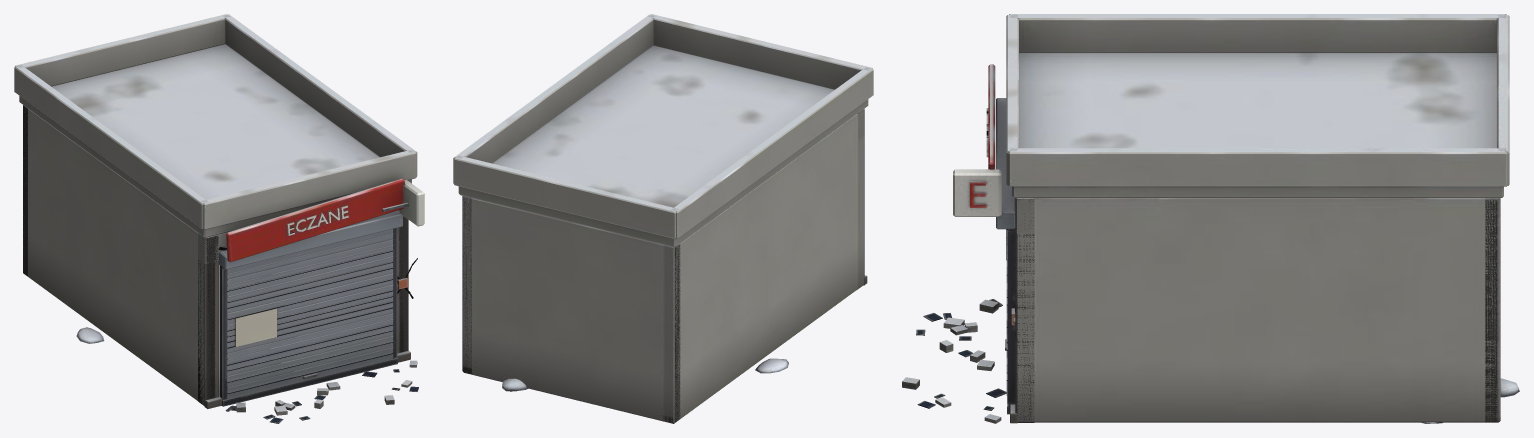
Rendered from bld_shop_eczane.glb.
3 views of the same model, side by side, from view 1: azimuth 30°, elevation 25°; view 2: azimuth 150°, elevation 25°; view 3: azimuth 270°, elevation 25° (orthographic). The views are drawn at different scales.
Visible parts, largest first — view 1: bld_shop_eczane; view 2: bld_shop_eczane; view 3: bld_shop_eczane.
Part boxes in pixels (x1=…): bld_shop_eczane: x1=14, y1=14, x2=424, y2=423; bld_shop_eczane: x1=453, y1=14, x2=873, y2=423; bld_shop_eczane: x1=902, y1=14, x2=1519, y2=423.
Bounding box in the file's own units: 5.25 × 4.4 × 8.91.
1 material, 1 textured.
